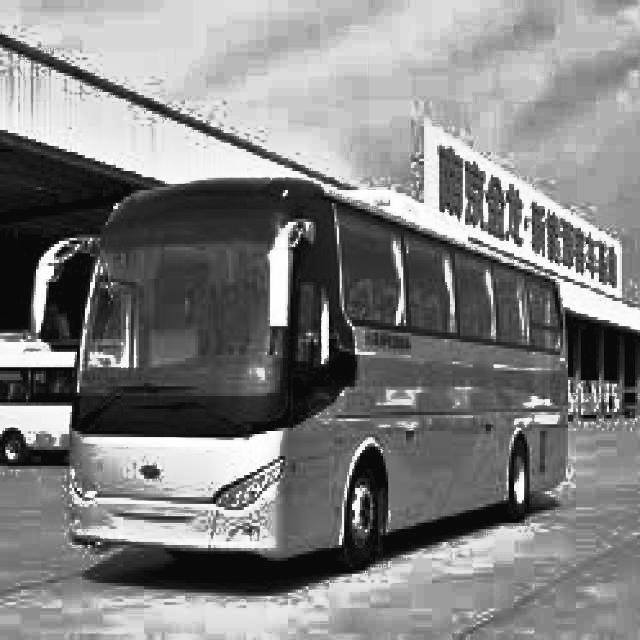Bus: (17, 153, 579, 557)
